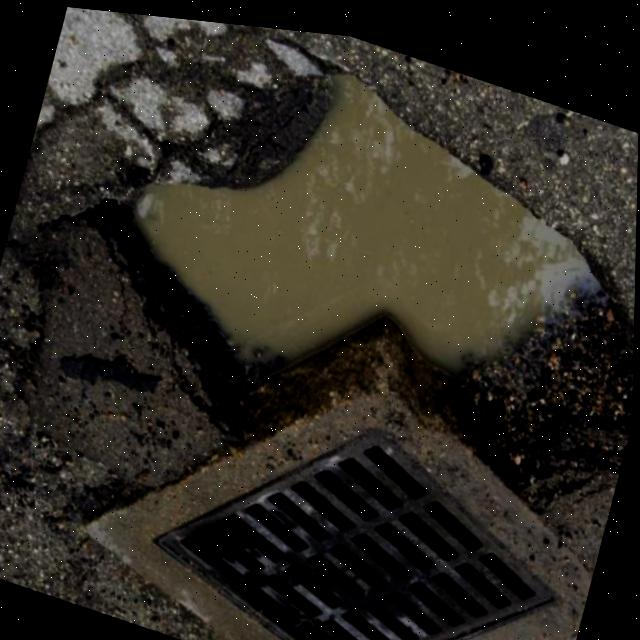Pothole: (0, 0, 640, 625)
